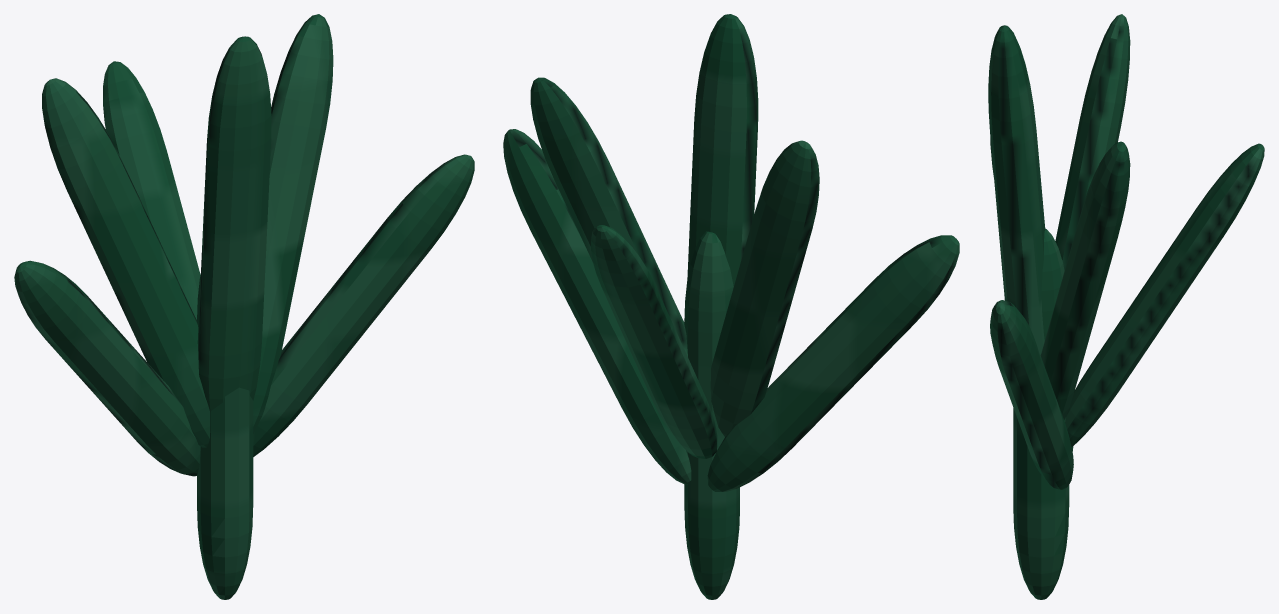
The model's file is seefern_body.obj.
3 views of the same model, side by side, from view 1: azimuth 30°, elevation 25°; view 2: azimuth 150°, elevation 25°; view 3: azimuth 270°, elevation 25° (orthographic).
Size of the model in its own units: 1.13 by 1.36 by 0.5931.
1 material, 1 textured.
